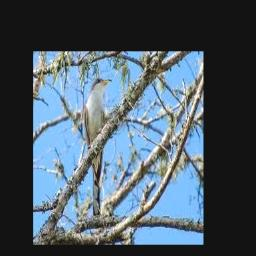Cuckoo: (83, 78, 111, 221)
